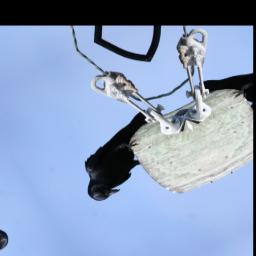Crow: (60, 108, 181, 206)
